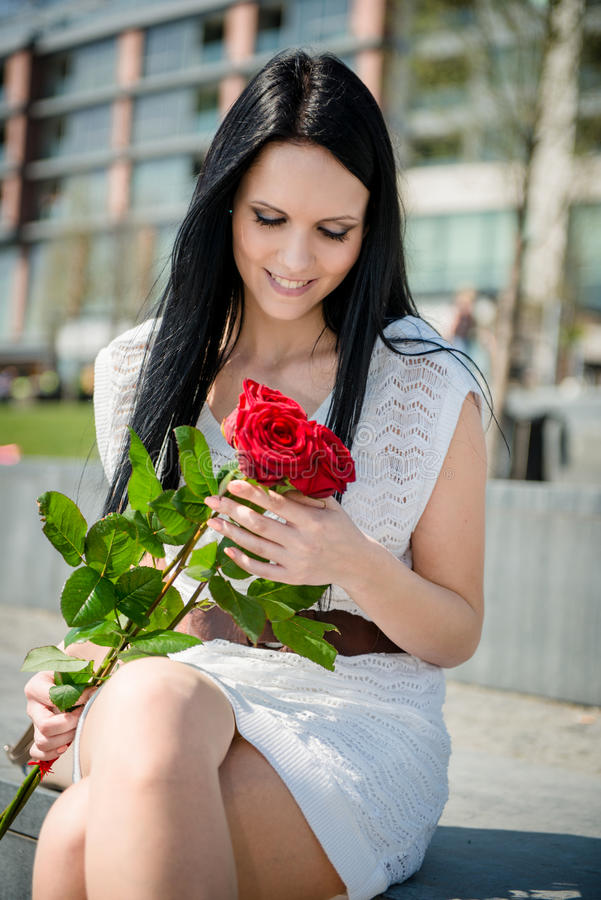RedRose: (288, 427, 368, 515), (242, 400, 308, 489), (222, 372, 294, 452)
